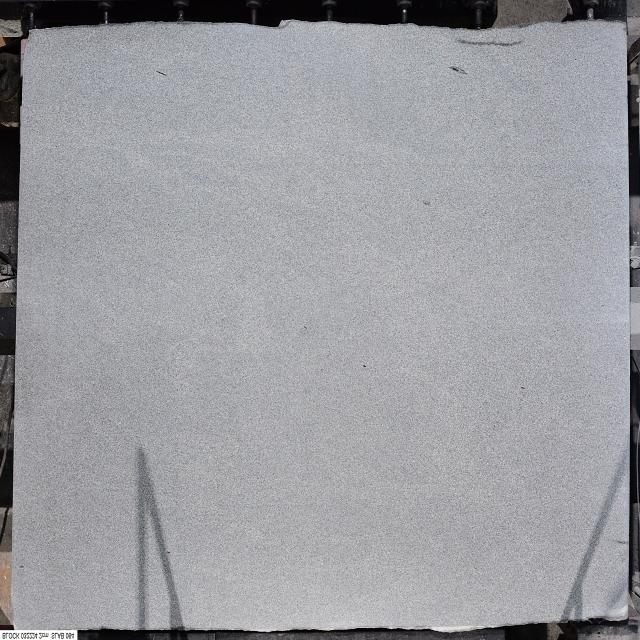chapa: (12, 21, 630, 630)
